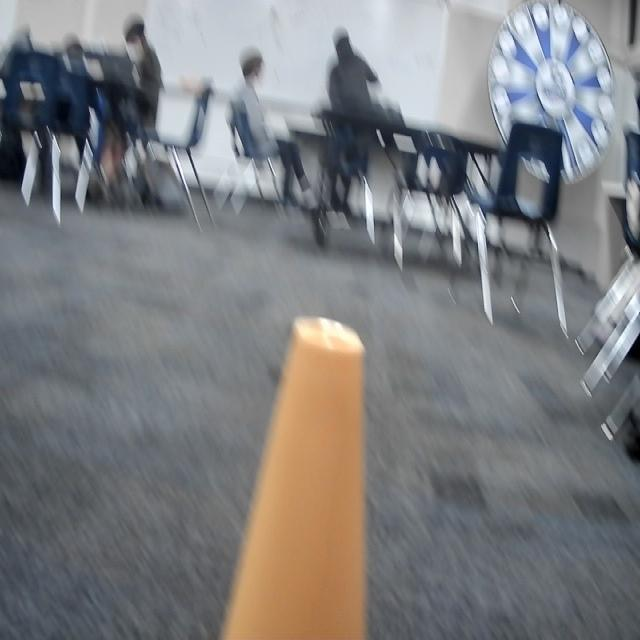cone: (199, 308, 371, 640)
